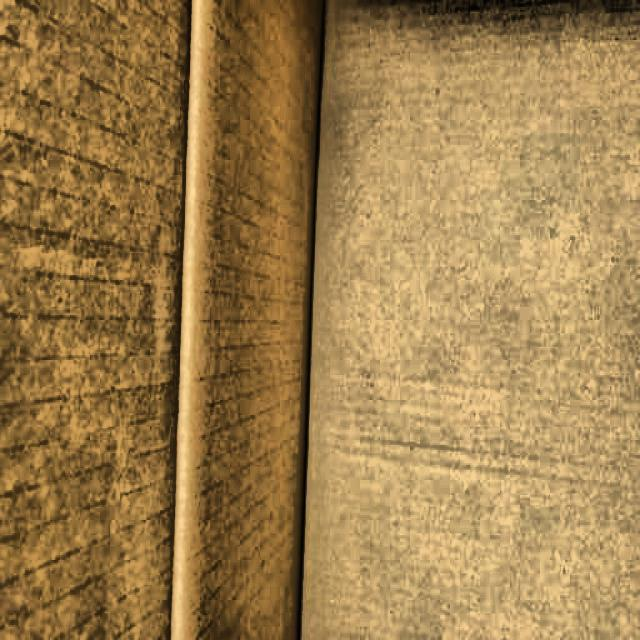cardboard: (297, 0, 638, 638), (0, 0, 325, 638)
